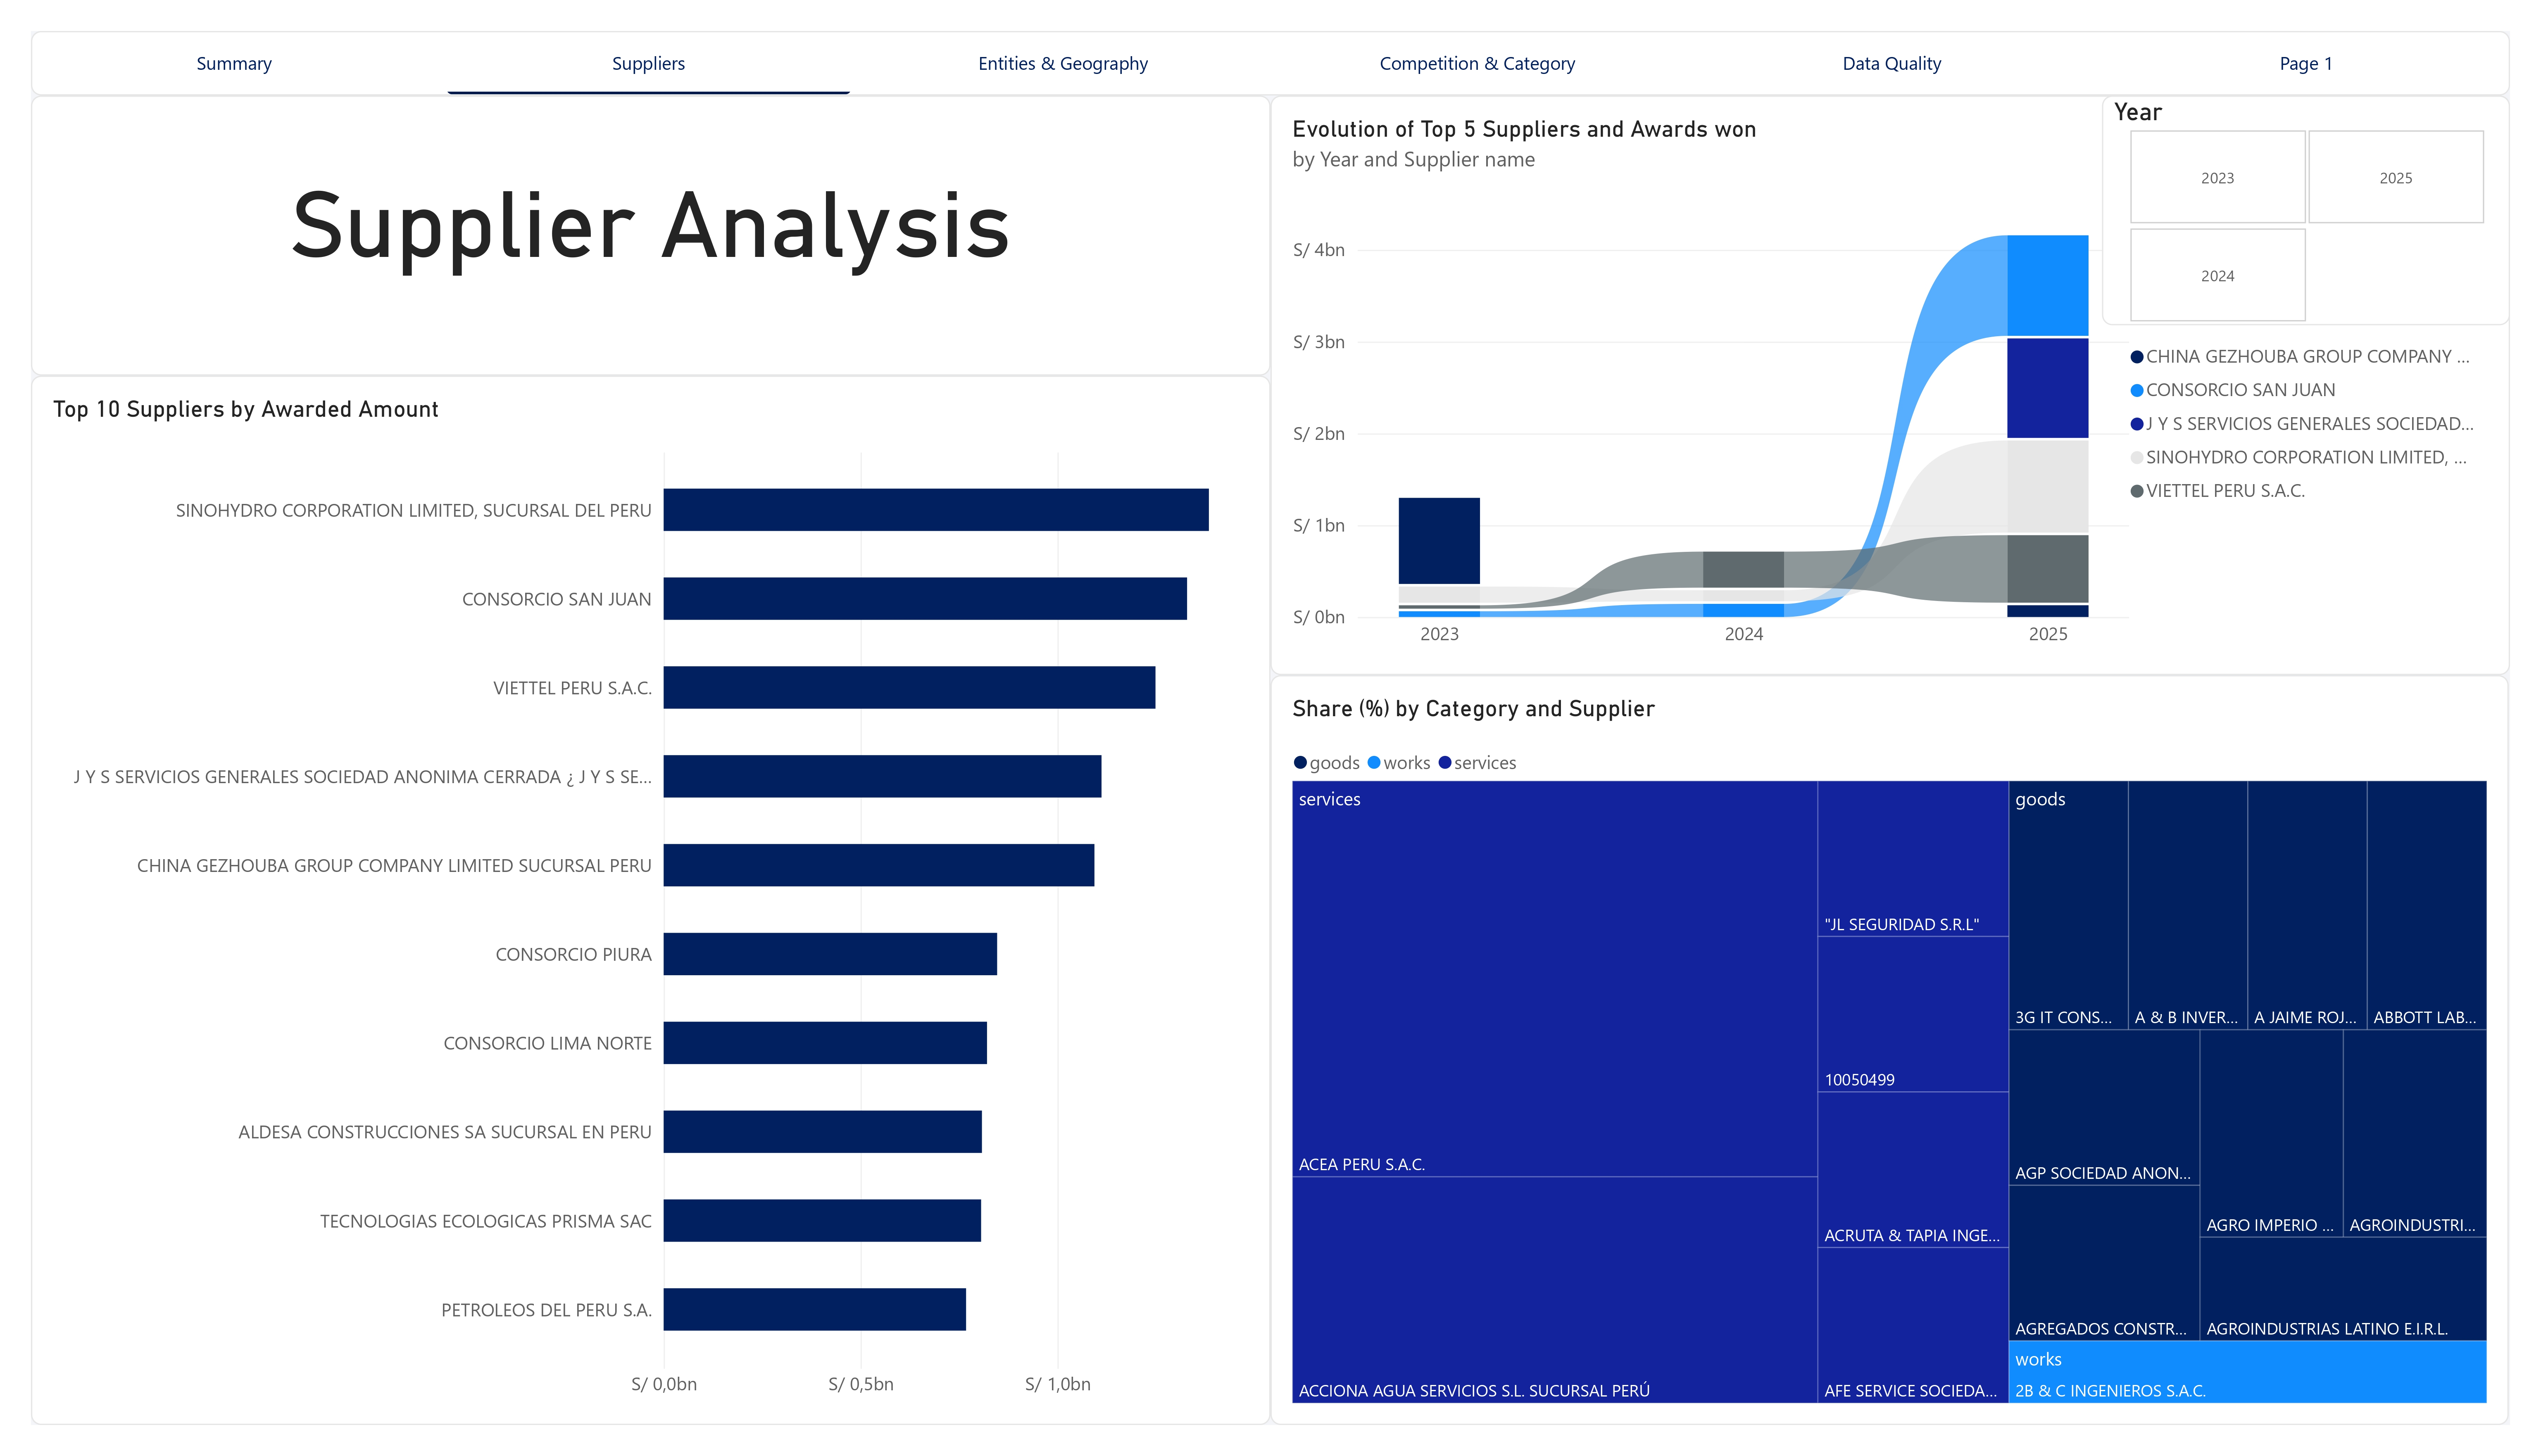

The page's visual inventory and layout, read from the dashboard file:
{"tool":"powerbi","page":{"name":"Suppliers","canvas":[1920,1080],"ordinal":1},"visuals":[{"type":"textbox","box":[0,50,960.1,217.3],"z":0},{"type":"ribbonChart","fields":{"Category":["Dim_Year.Year"],"Series":["v_annual_supplier_ranking.supplier_name"],"Y":["Sum(v_annual_supplier_ranking.total_amount)"]},"box":[960.1,50,960.1,449.1],"z":1000},{"type":"barChart","title":"Top 10 Suppliers by Awarded Amount","fields":{"Category":["v_top_suppliers.supplier_name"],"Y":["Sum(v_top_suppliers.total_amount)"]},"box":[0,267.4,960.1,812.6],"z":2000},{"type":"treemap","title":"Share (%) by Category and Supplier","fields":{"Details":["v_category_concentration.supplier_name"],"Group":["v_category_concentration.procurement_category"],"Values":["Sum(v_category_concentration.share_pct)"]},"box":[960.1,499.2,958.8,580.8],"z":3000},{"type":"slicer","fields":{"Values":["Dim_Year.Year"]},"box":[1604.2,50,316.1,177.8],"z":4500},{"type":"pageNavigator","box":[0,0,1920.3,50],"z":4501}]}

Visuals, with their boxes on the page's 1920x1080 design canvas (x1, y1, x2, y2). These are canvas units, not pixel positions in the 2541x1456 screenshot, which may show the page scaled, cropped or inside an application window:
textbox: {"x1": 0, "y1": 50, "x2": 960, "y2": 267}
ribbonChart - Dim_Year.Year x v_annual_supplier_ranking.supplier_name: {"x1": 960, "y1": 50, "x2": 1920, "y2": 499}
"Top 10 Suppliers by Awarded Amount" barChart: {"x1": 0, "y1": 267, "x2": 960, "y2": 1080}
"Share (%) by Category and Supplier" treemap: {"x1": 960, "y1": 499, "x2": 1919, "y2": 1080}
slicer - Dim_Year.Year: {"x1": 1604, "y1": 50, "x2": 1920, "y2": 228}
pageNavigator: {"x1": 0, "y1": 0, "x2": 1920, "y2": 50}
